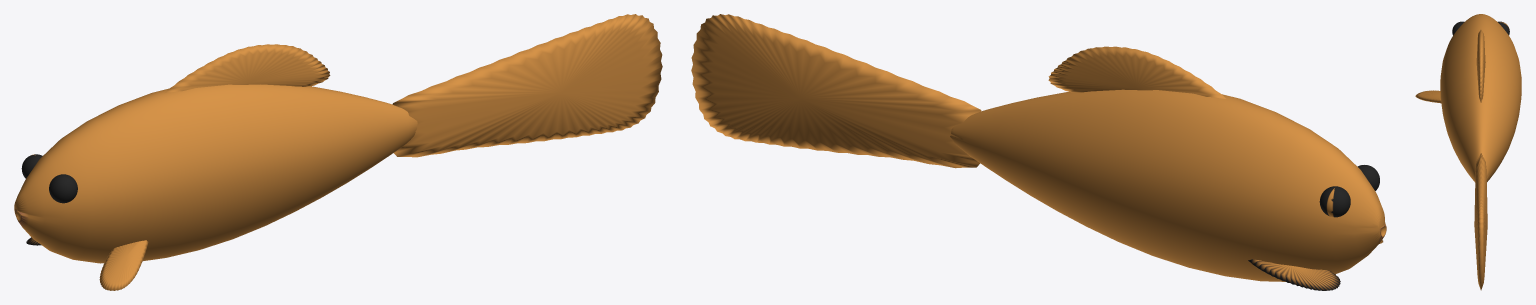
Rendered from gf_ref_v6.glb.
3 views of the same model, side by side, from view 1: azimuth 30°, elevation 25°; view 2: azimuth 150°, elevation 25°; view 3: azimuth 270°, elevation 25° (orthographic). The views are drawn at different scales.
Parts seen in each view (by area): view 1: Fish; view 2: Fish; view 3: Fish.
Boxes of the visible parts, bbox=[...] form: Fish: bbox=[14, 14, 662, 290]; Fish: bbox=[691, 14, 1386, 290]; Fish: bbox=[1415, 14, 1521, 290].
Bounding box in the file's own units: 0.819 × 0.2289 × 0.1698.
